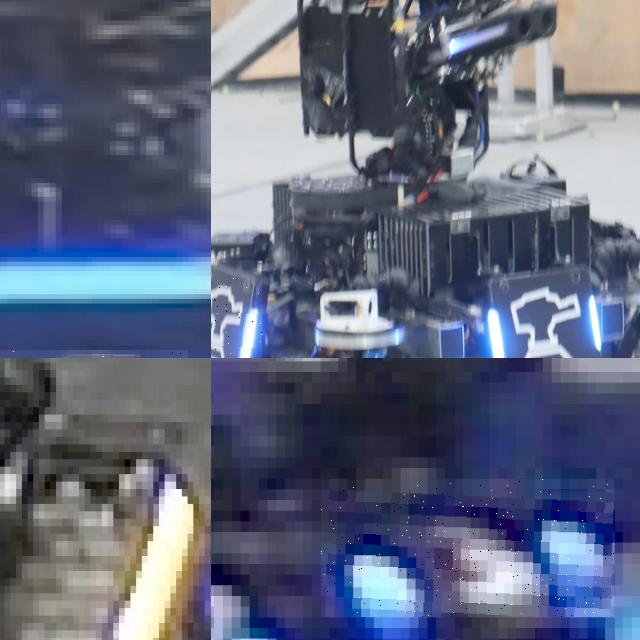B3: (321, 479, 614, 617), (211, 547, 276, 640)
Bs: (486, 264, 605, 358), (211, 260, 262, 358)
